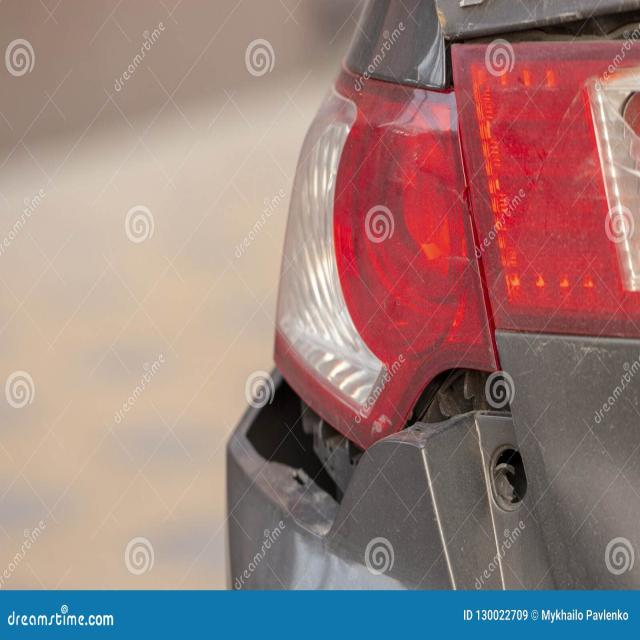misalignment: (229, 365, 510, 536), (445, 8, 640, 90)
